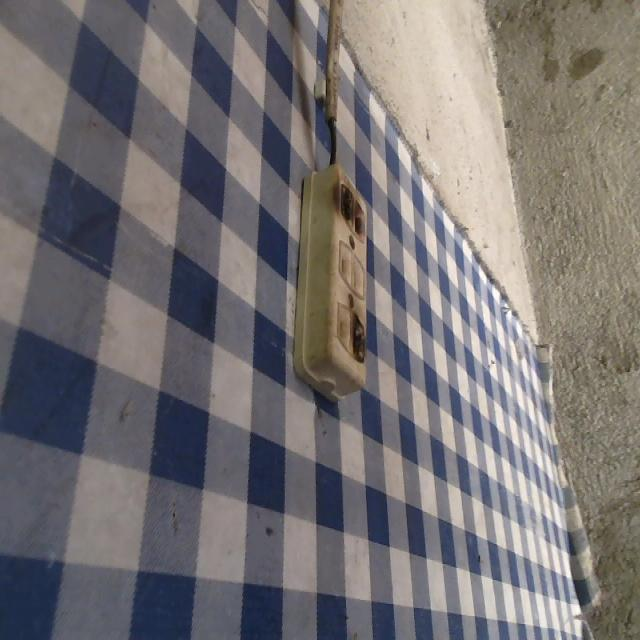-: (329, 170, 368, 242), (348, 308, 369, 367)
